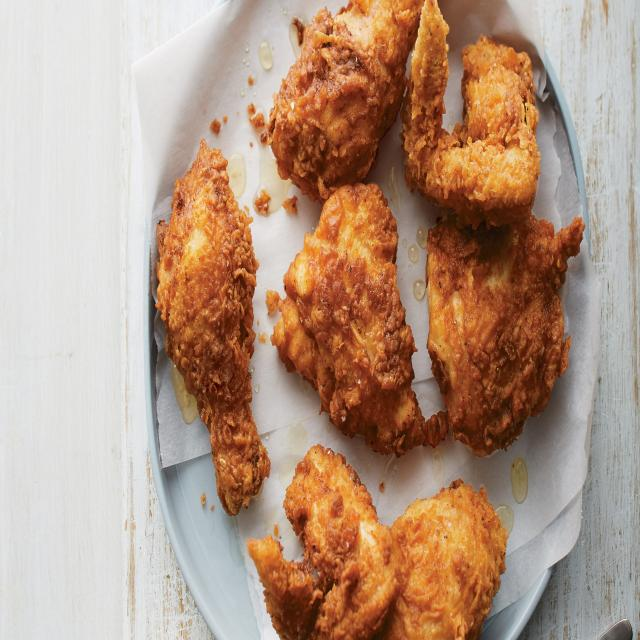Frango: (152, 0, 585, 640)
